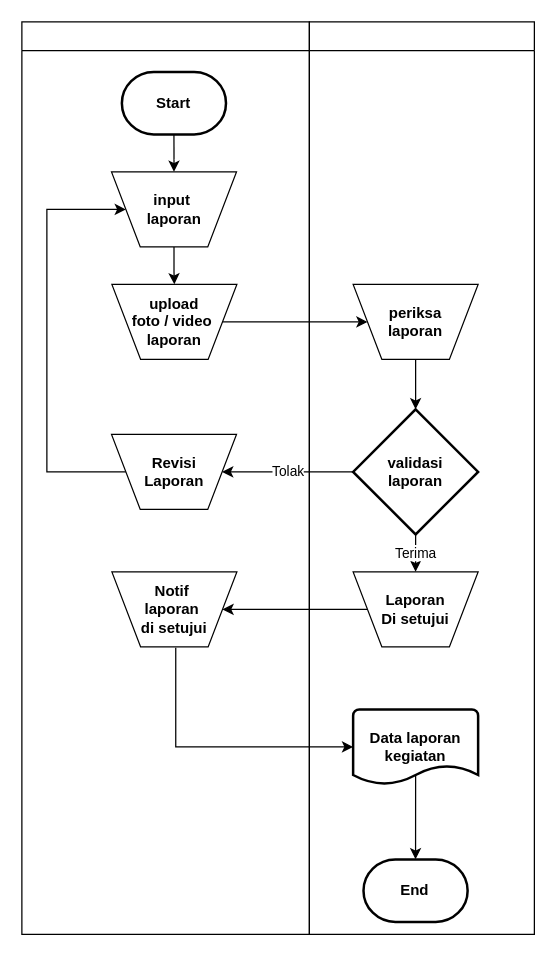
This 556x956 diagram has some shape labels left out. Here are the shapes that lost their labels. From the top down, the centre of each, then its label:
the point at 165,477: Anggota
the point at 421,477: Administrator
